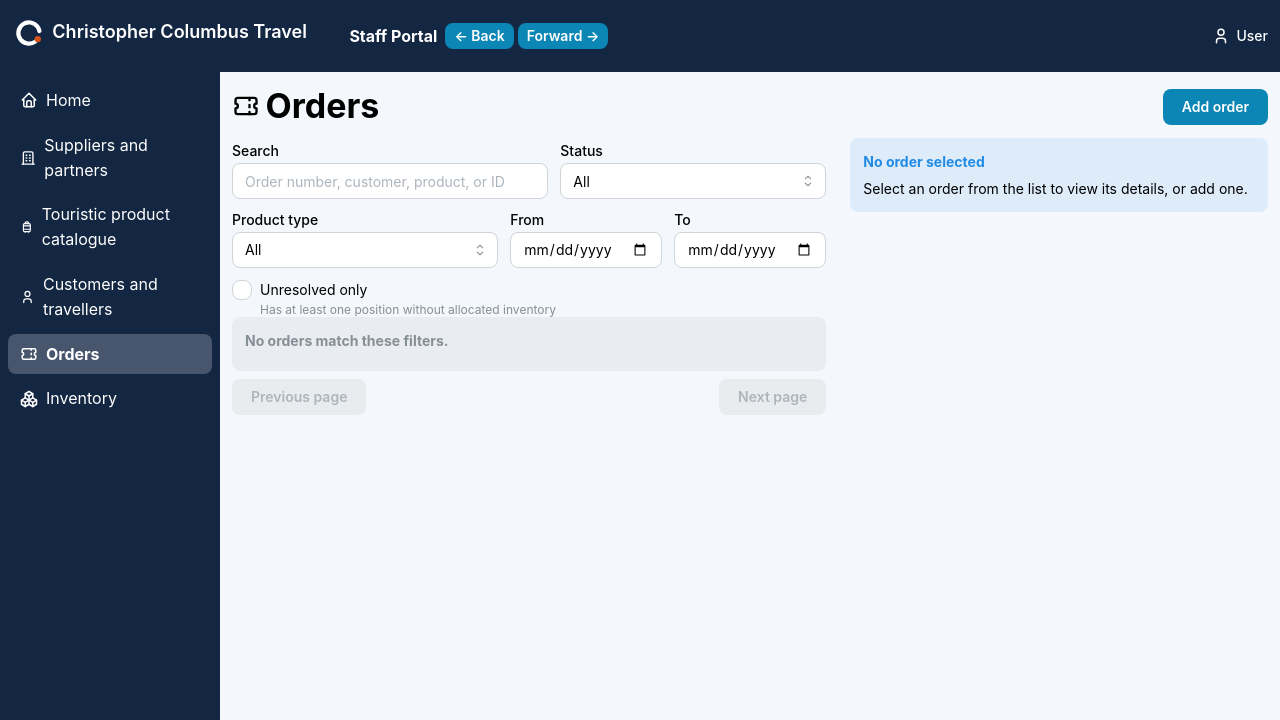
Test: OrdersRoute › opens add functionality in the right pane
Click the button "Add order": (1215, 107) 1163,89 -> 1268,125
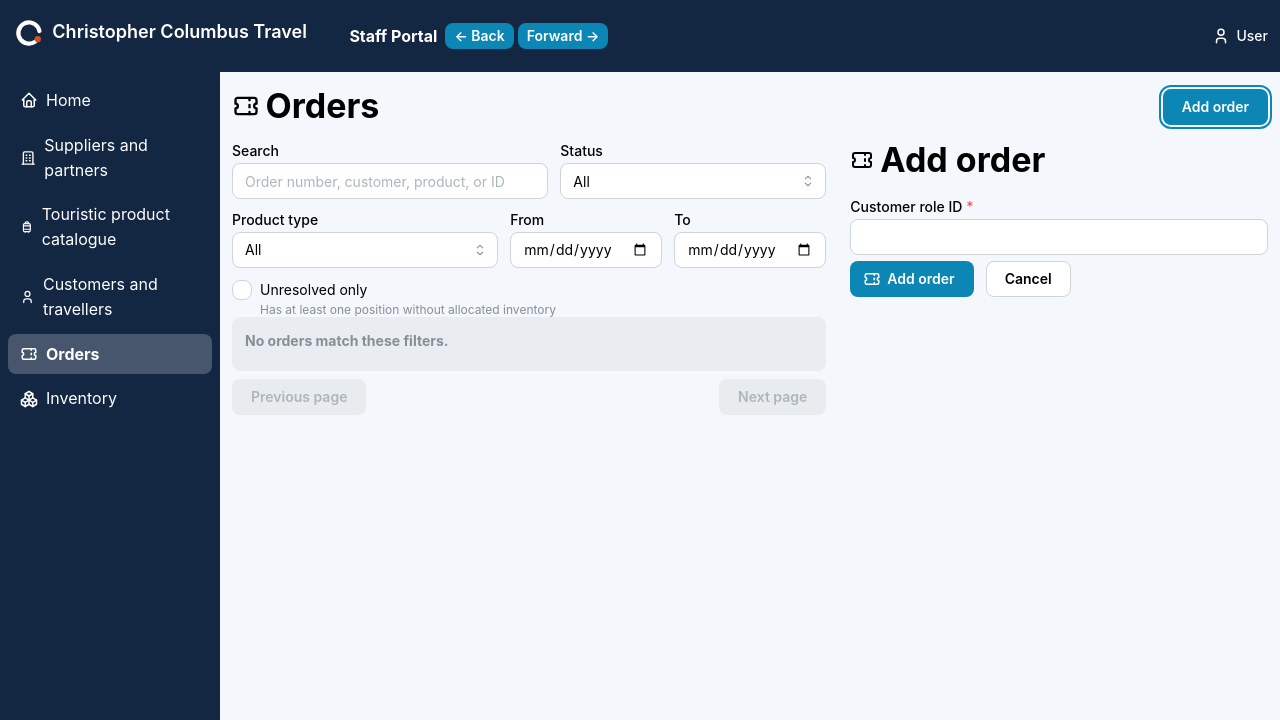
Expected: the heading "Add order" is shown, 880,138 -> 1045,182
Expected: the field labelled "Customer role ID" is shown, 850,219 -> 1268,255
